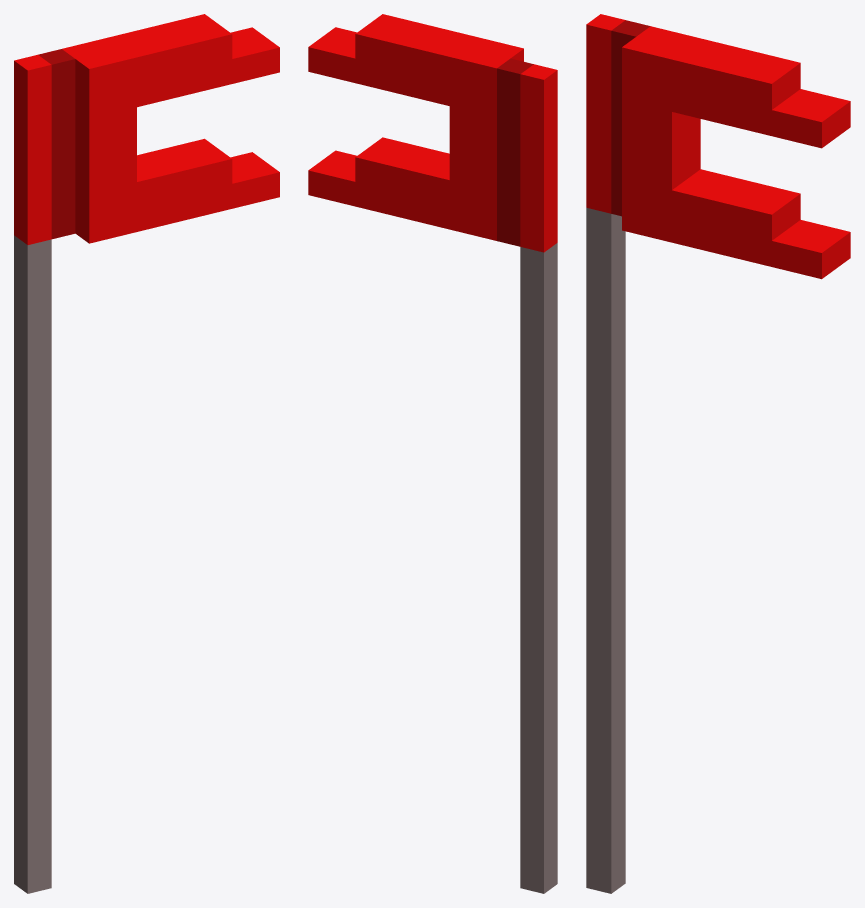
Rendered from drapeau.obj.
3 views of the same model, side by side, from view 1: azimuth 30°, elevation 25°; view 2: azimuth 150°, elevation 25°; view 3: azimuth 330°, elevation 25° (orthographic). The views are drawn at different scales.
Bounding box in the file's own units: 10 × 33 × 2.
Materials: 1 (1 with a texture image).
